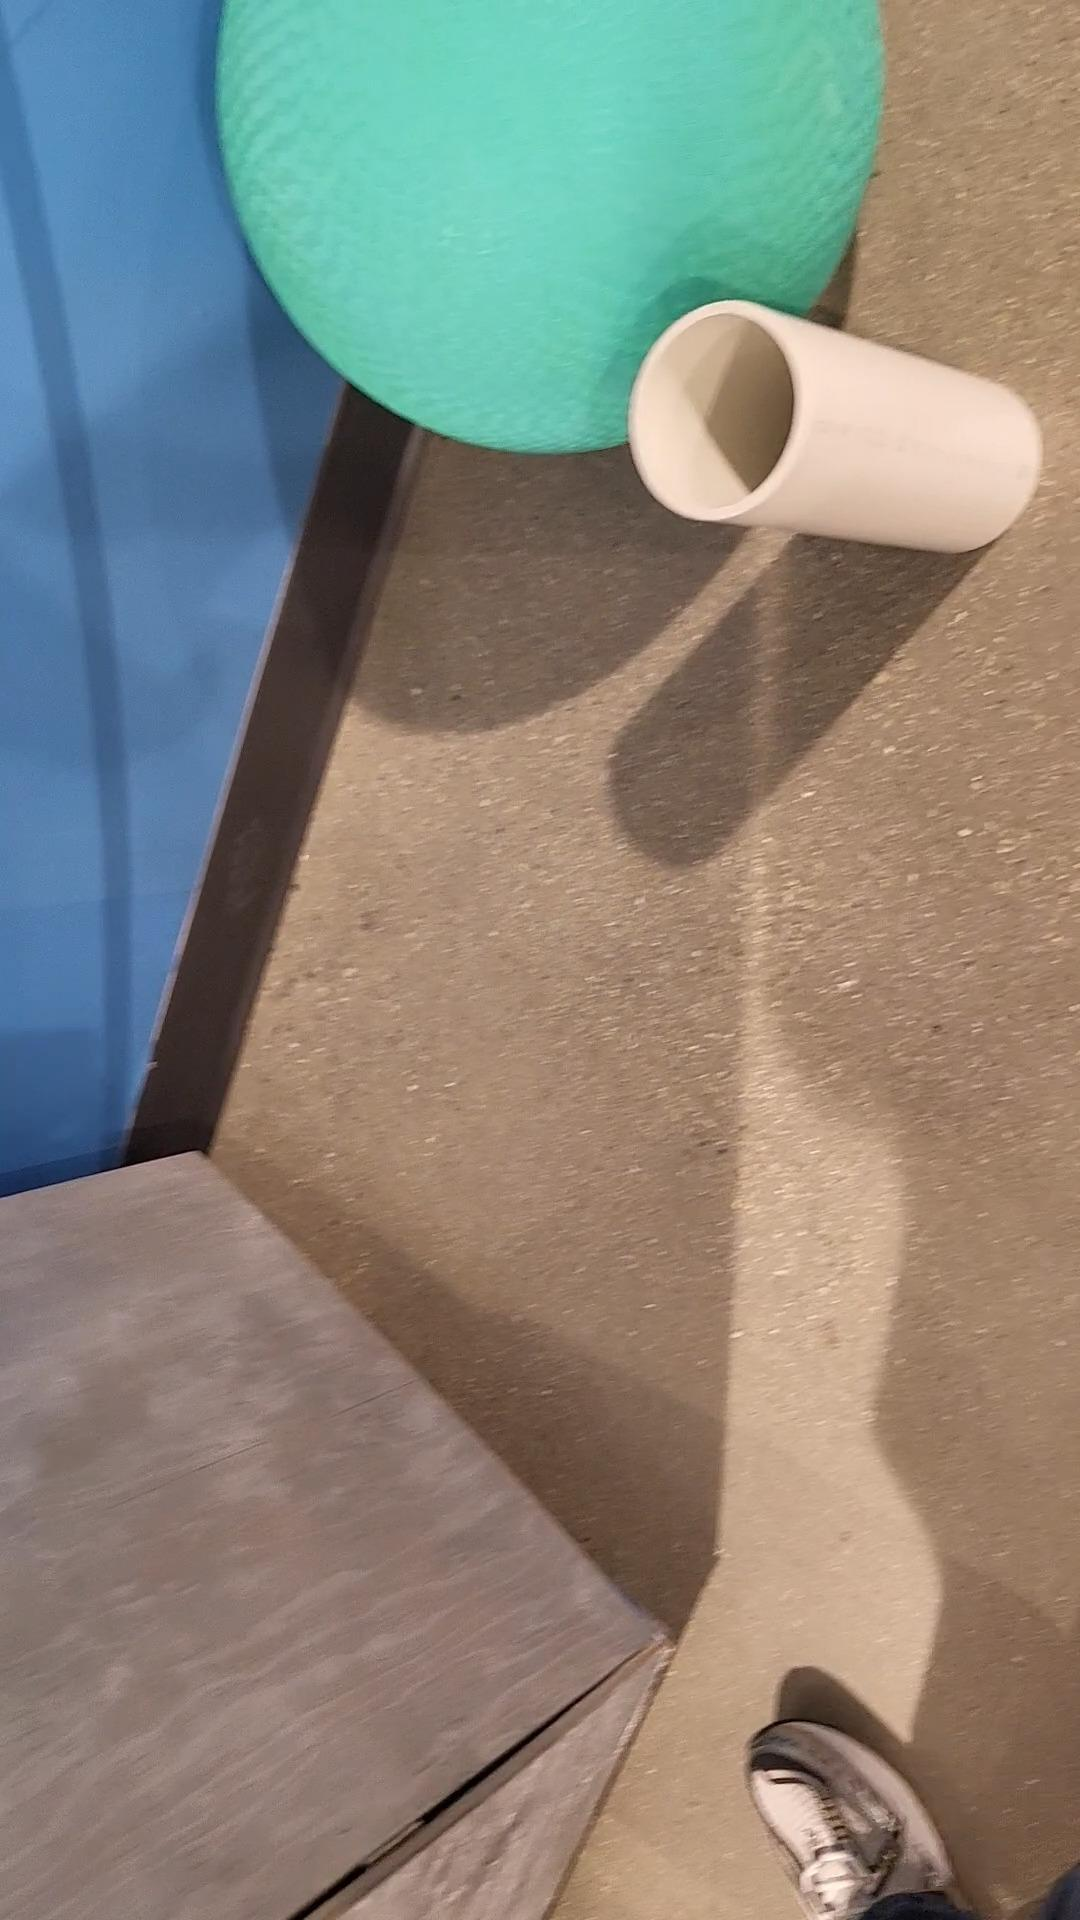algae: (215, 0, 890, 458)
coral: (636, 302, 1044, 560)
